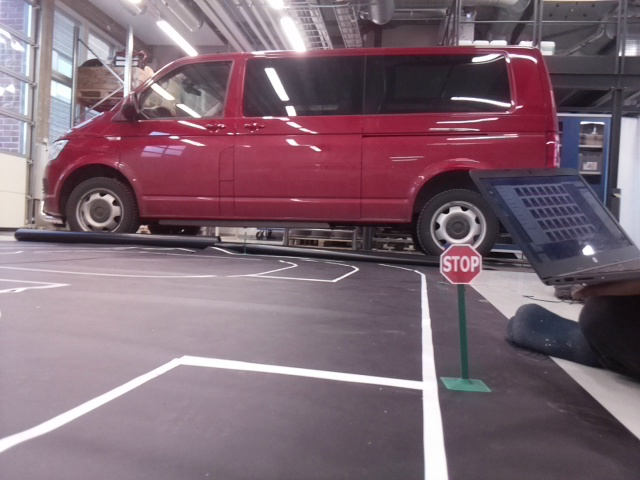Stop: (440, 243, 480, 283)
